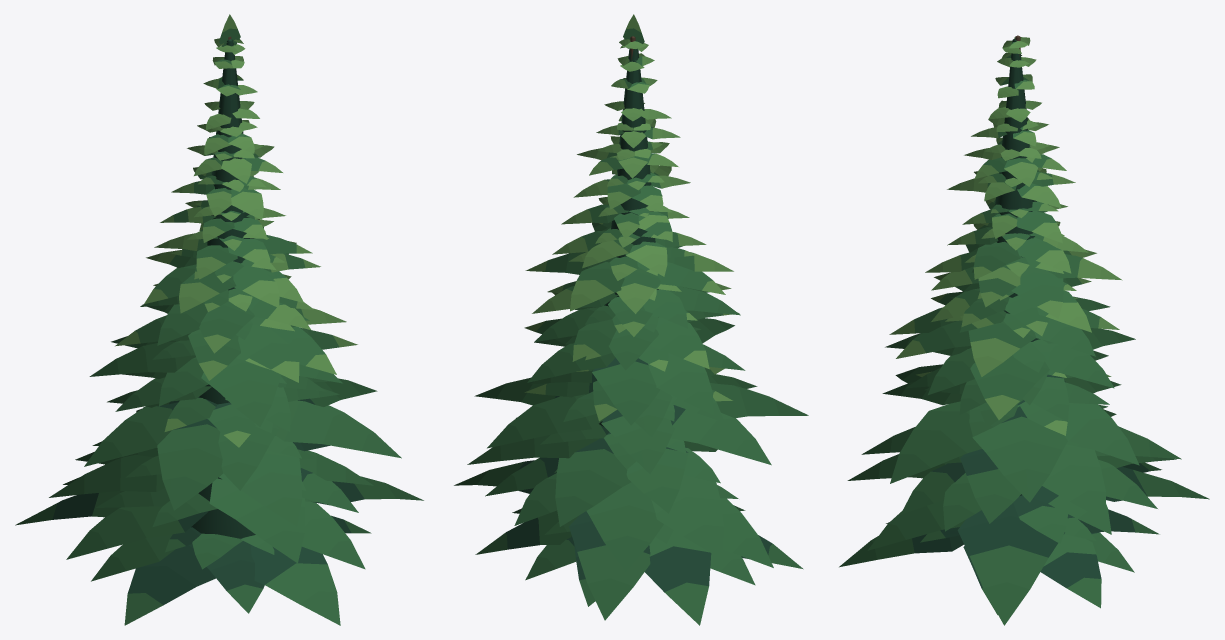
Rendered from Spruce.glb.
3 renders of one model, left to right at view 1: azimuth 30°, elevation 25°; view 2: azimuth 150°, elevation 25°; view 3: azimuth 270°, elevation 25°, orthographic.
Parts seen in each view (by area): view 1: Spruce.needleMid, Spruce.needleLight, Spruce.needleDark; view 2: Spruce.needleMid, Spruce.needleLight, Spruce.needleDark; view 3: Spruce.needleMid, Spruce.needleLight, Spruce.needleDark.
Boxes of the visible parts, x1,y1,x2,y2 form: Spruce.needleMid: (15, 28, 423, 625); Spruce.needleLight: (115, 14, 357, 447); Spruce.needleDark: (52, 39, 364, 605); Spruce.needleMid: (454, 28, 808, 625); Spruce.needleLight: (524, 14, 739, 421); Spruce.needleDark: (506, 40, 772, 592); Spruce.needleMid: (839, 38, 1209, 625); Spruce.needleLight: (889, 37, 1122, 435); Spruce.needleDark: (912, 38, 1150, 588).
Size of the model in its own units: 21.57 by 33.7 by 20.61.
